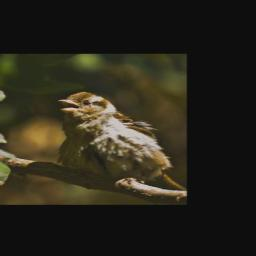Sparrow: (56, 91, 171, 184)
